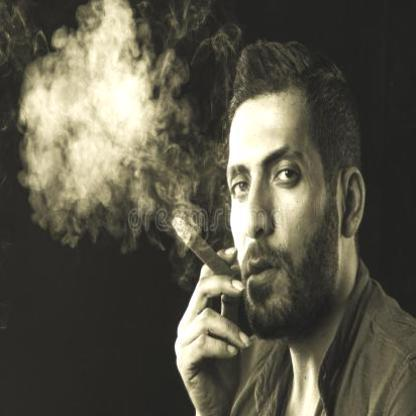cigarette: (168, 213, 234, 279)
person: (220, 43, 415, 415)
smoke: (20, 5, 188, 249)
